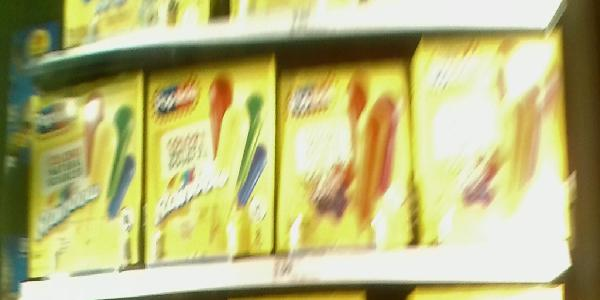icecream: (415, 32, 570, 246), (142, 57, 273, 262), (276, 67, 415, 254), (21, 65, 142, 274)
